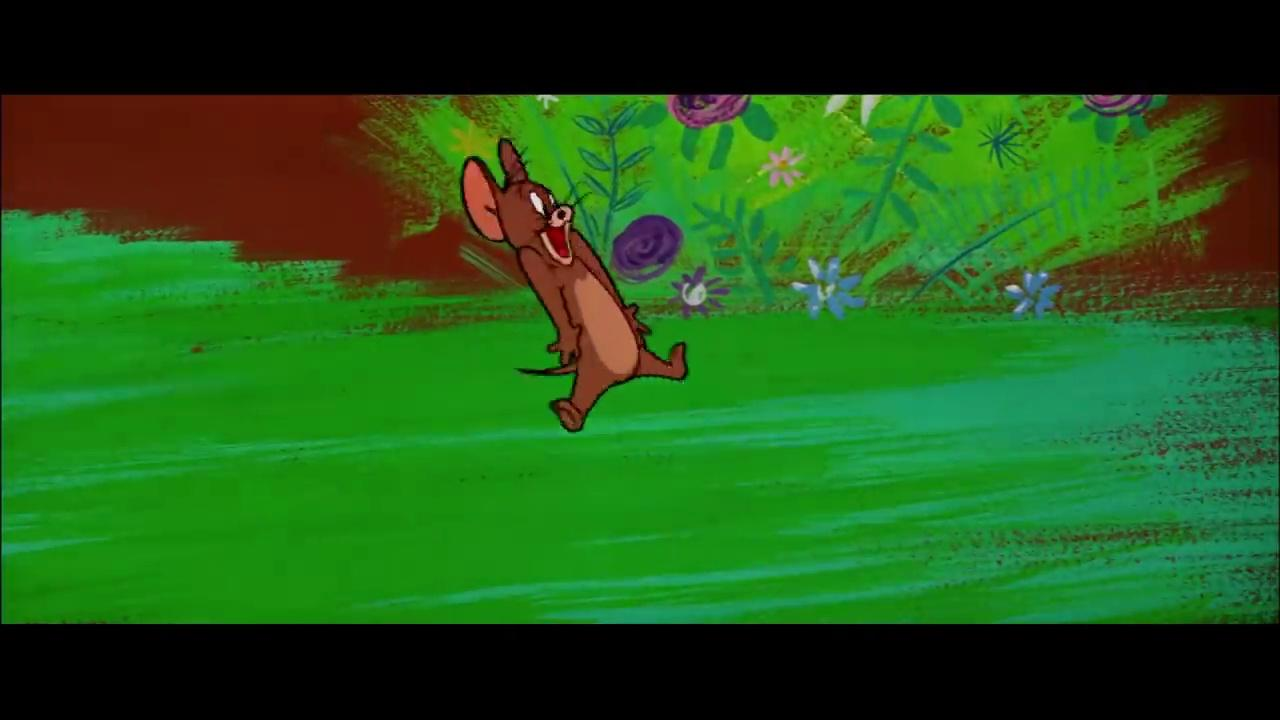Jerry: (458, 136, 689, 432)
